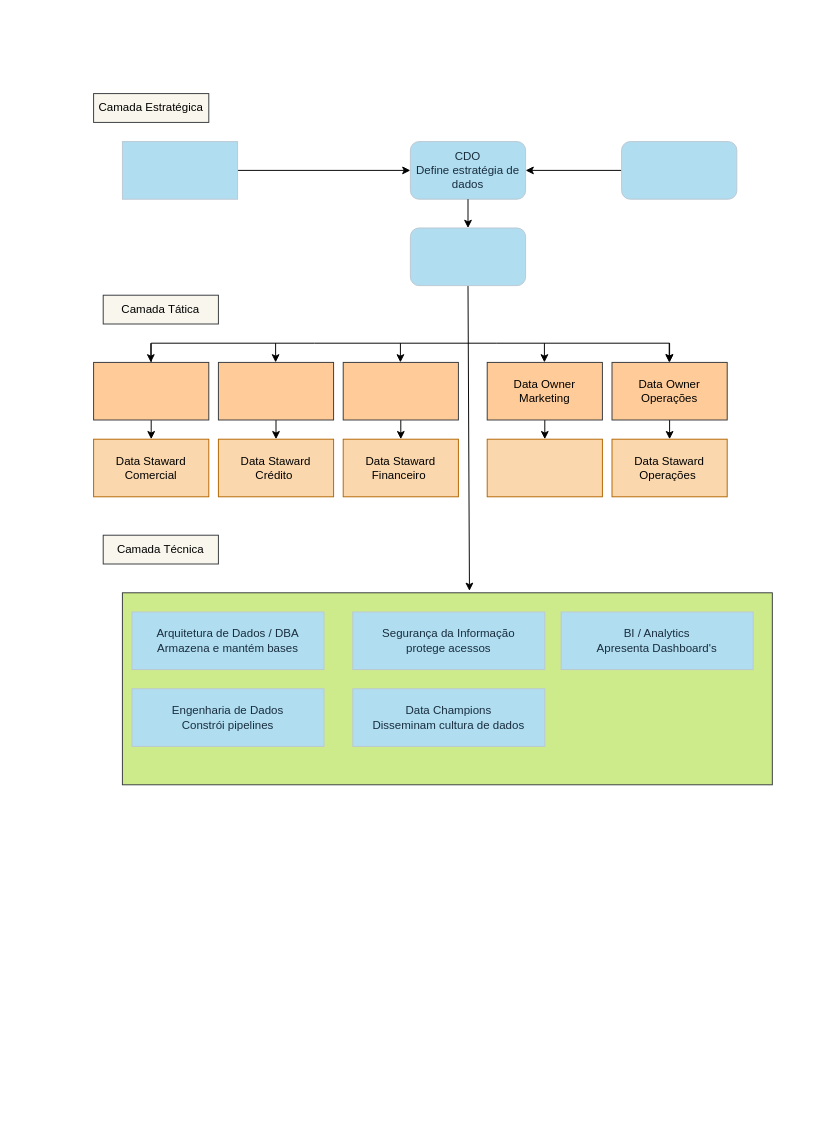
This 818x1127 diagram has some shape labels left out. Here are the shapes that lost their labels. From the top down, the box of each, then its label:
(121, 141, 238, 199): Board Patrocinador Aprova Investimento
(621, 141, 737, 199): DPO Garante privacidade e LGPD
(409, 227, 526, 286): Comitê / DGO Aprova políticas e prioriza ações
(93, 361, 209, 420): Data Owner Comercial
(217, 361, 334, 420): Data Owner Crédito
(342, 361, 458, 420): Data Owner Financeiro
(486, 438, 602, 497): Data Staward Marketing
